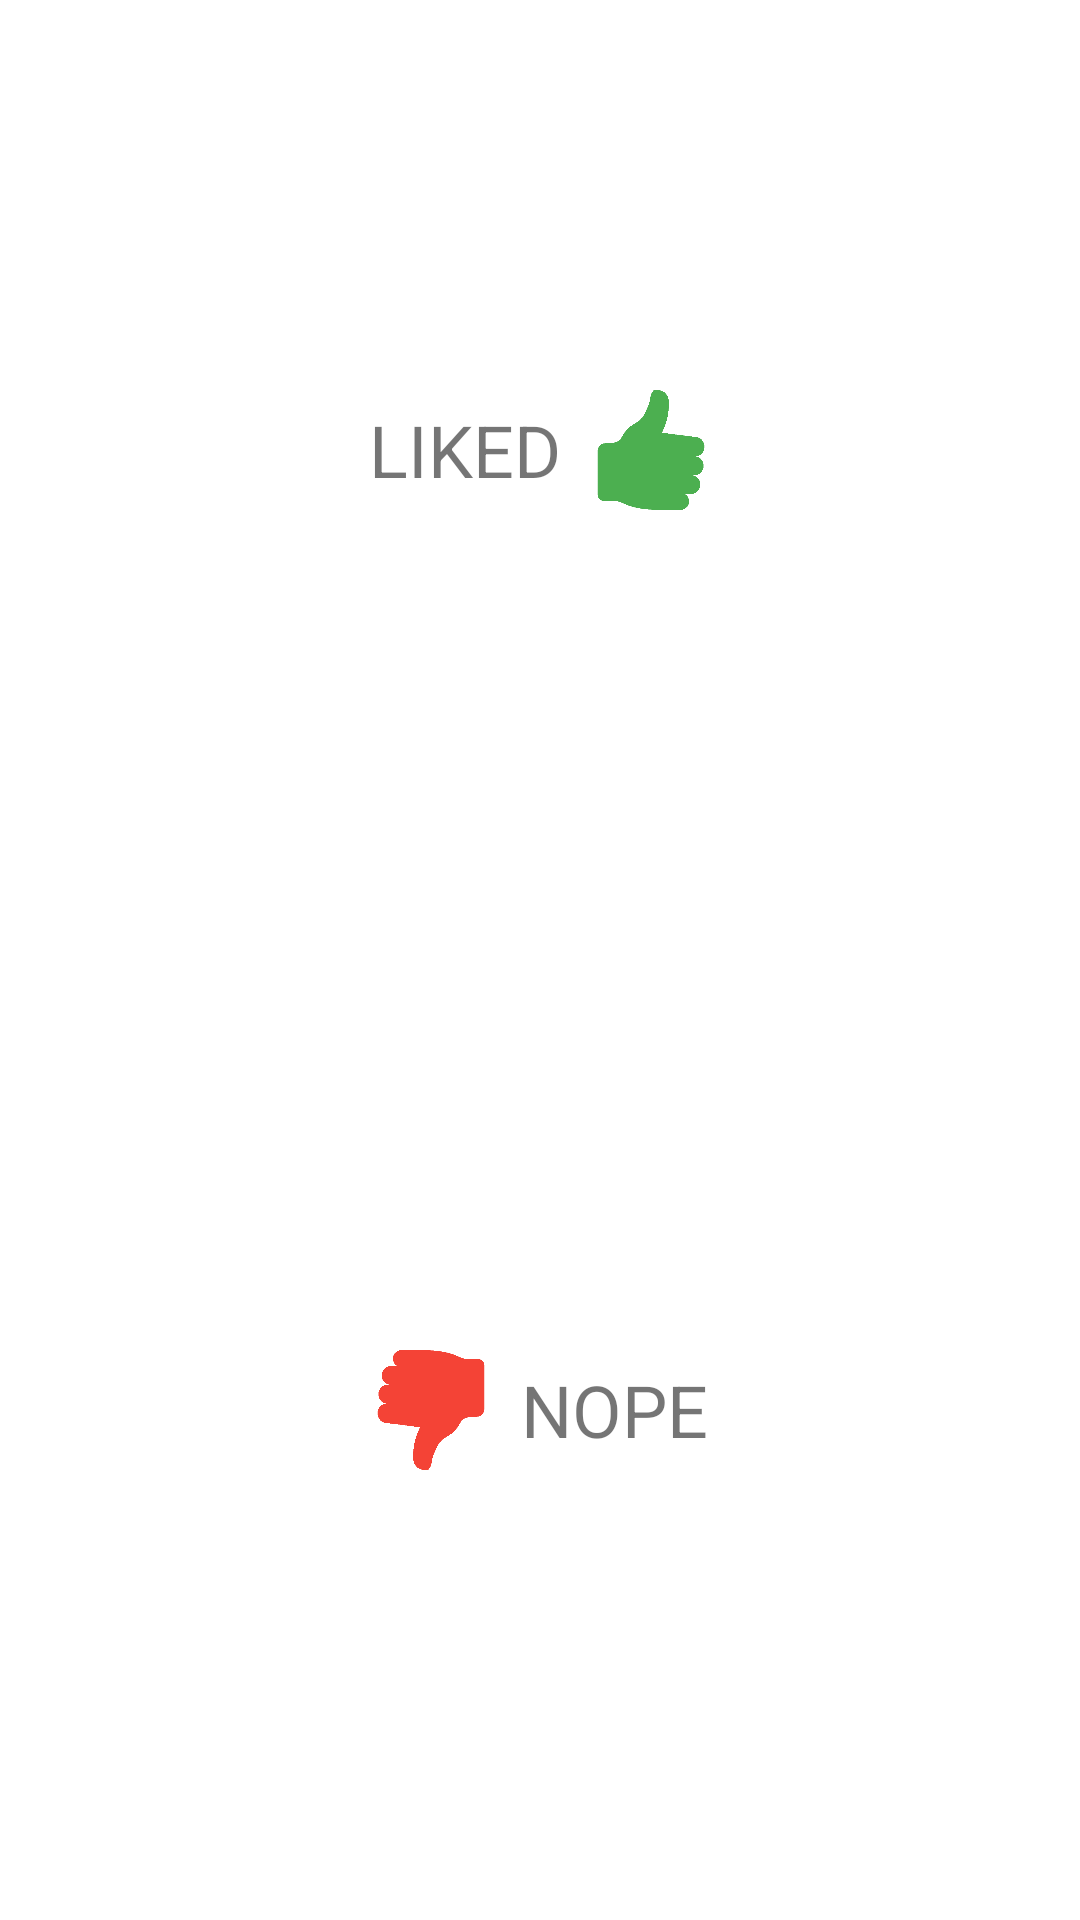

Where icons sit on this 1080 x 1920 app screen, as (x1, y1, x2, y2):
thumbs down: (377, 1350, 485, 1470)
thumbs up: (597, 390, 705, 510)
